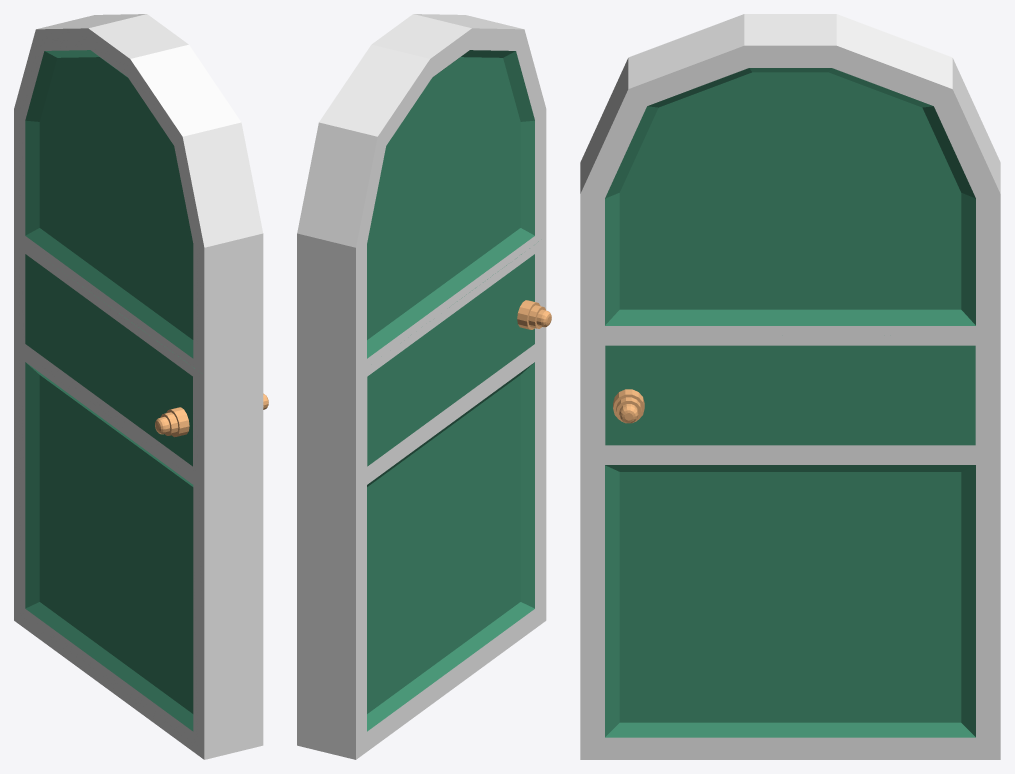
Rendered from Door_2.fbx.
3 views of the same model, side by side, from view 1: azimuth 30°, elevation 25°; view 2: azimuth 150°, elevation 25°; view 3: azimuth 270°, elevation 25° (orthographic). The views are drawn at different scales.
Visible parts, largest first — view 1: Door_2; view 2: Door_2; view 3: Door_2.
Part boxes in pixels (x1=…): Door_2: x1=14, y1=14, x2=268, y2=759; Door_2: x1=297, y1=14, x2=551, y2=759; Door_2: x1=580, y1=14, x2=1000, y2=759.
Bounding box in the file's own units: 0.3816 × 2.17 × 1.16.
